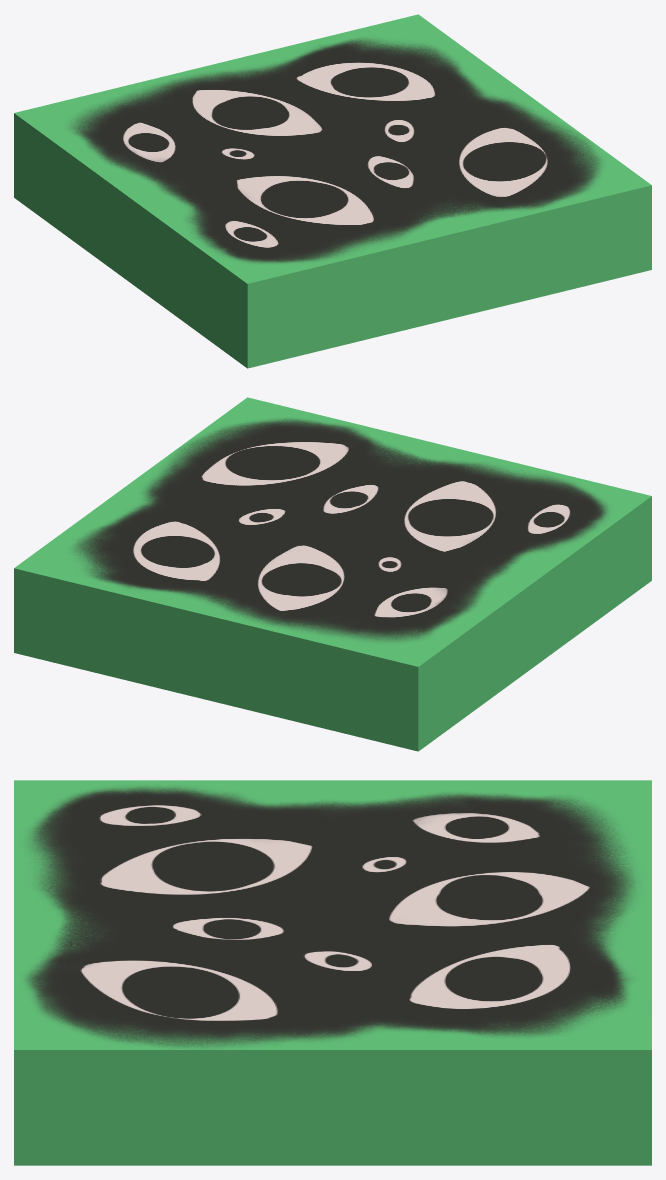
The model's file is Light_Floor_Geo.fbx.
The picture shows the model from 3 angles, top to bottom: view 1: azimuth 30°, elevation 25°; view 2: azimuth 150°, elevation 25°; view 3: azimuth 270°, elevation 25°; orthographic projection. The views are drawn at different scales.
Visible parts, largest first — view 1: Light_Floor; view 2: Light_Floor; view 3: Light_Floor.
Boxes of the visible parts, box(x1,y1,x2,y2) form: Light_Floor: box(14, 14, 651, 368); Light_Floor: box(14, 397, 651, 751); Light_Floor: box(14, 780, 651, 1165).
Bounding box in the file's own units: 150 × 30 × 150.
Materials: 1 (1 with a texture image).
